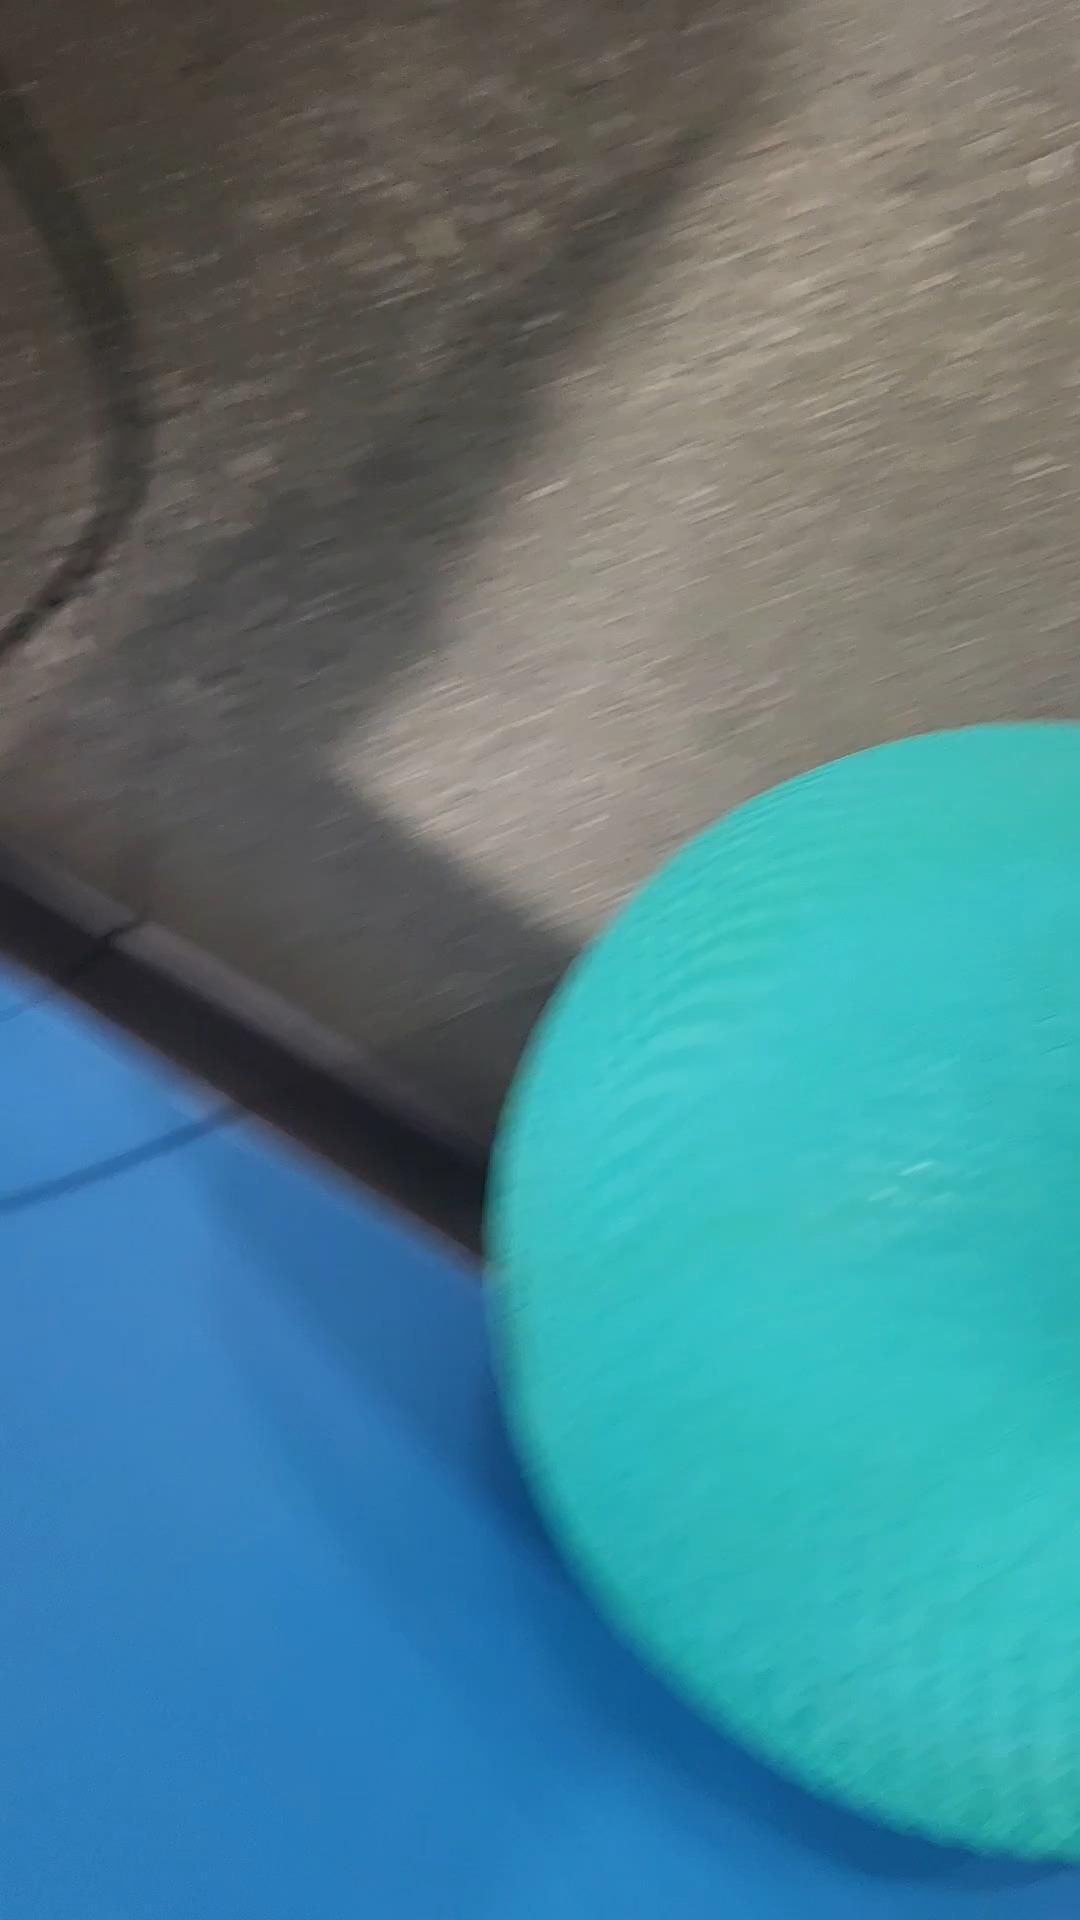algae: (488, 723, 1080, 1865)
